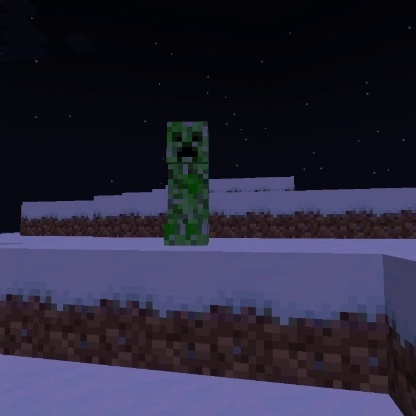creeper: (161, 117, 213, 249)
